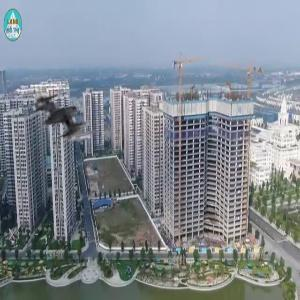drone: (26, 76, 105, 155)
